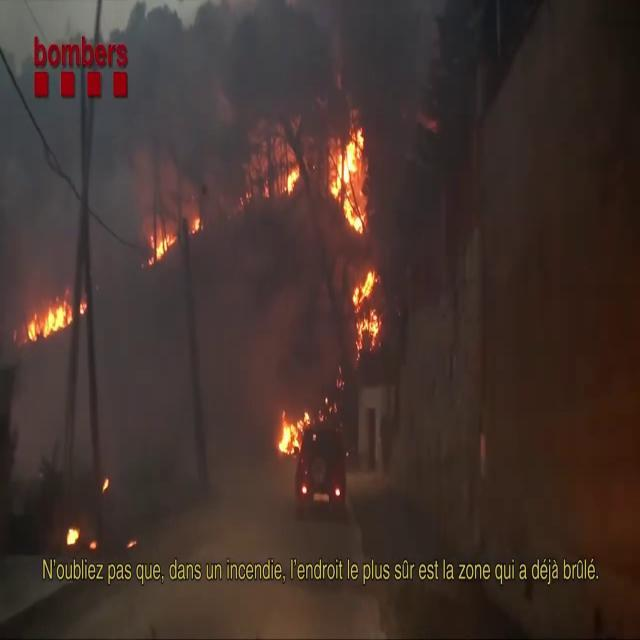Fire: (328, 117, 372, 240), (344, 251, 386, 353), (24, 287, 83, 345), (276, 406, 312, 462), (272, 158, 309, 205), (146, 222, 178, 268), (188, 206, 206, 238)
